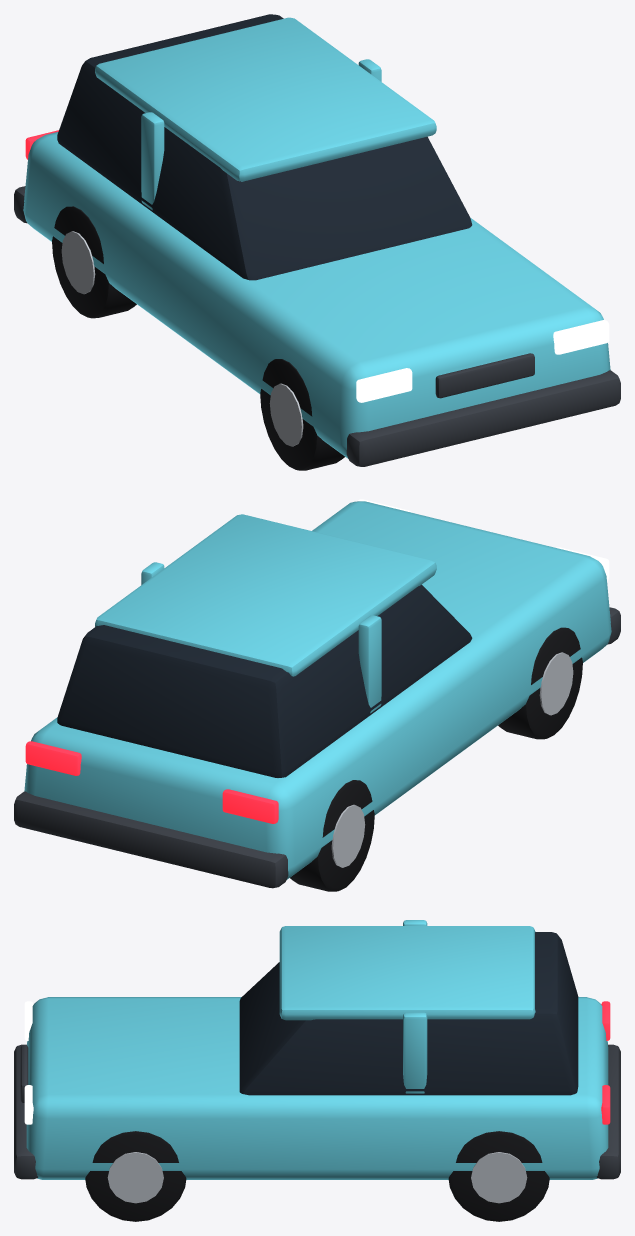
Rendered from roadsterRushHatch.glb.
3 views of the same model, one above another, from view 1: azimuth 30°, elevation 25°; view 2: azimuth 150°, elevation 25°; view 3: azimuth 270°, elevation 25° (orthographic). The views are drawn at different scales.
Visible parts, largest first — view 1: hatch; view 2: hatch; view 3: hatch.
Part boxes in pixels (x1=…): hatch: x1=14, y1=14, x2=620, y2=470; hatch: x1=14, y1=499, x2=620, y2=891; hatch: x1=14, y1=920, x2=620, y2=1221.
Size of the model in its own units: 1.82 by 1.47 by 4.04.
